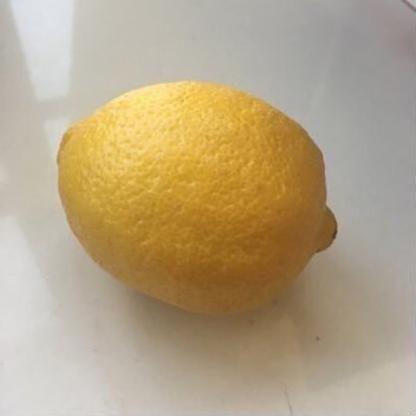lemon: (56, 78, 338, 317)
